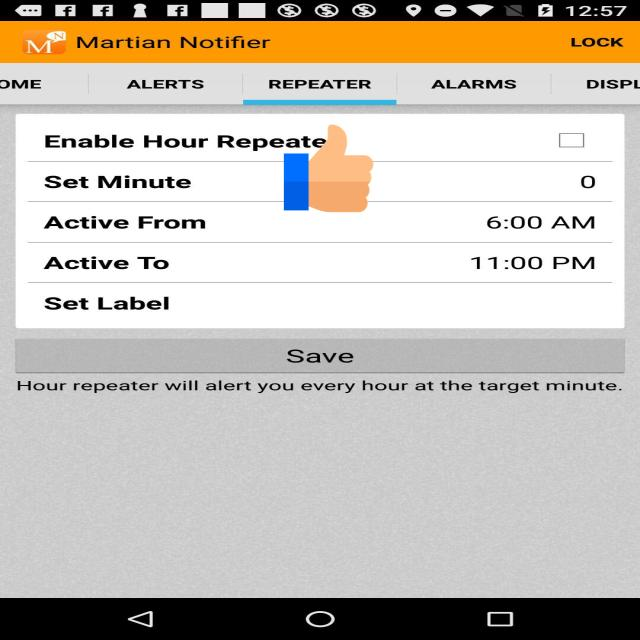privacy zuckering: (284, 123, 373, 215)
